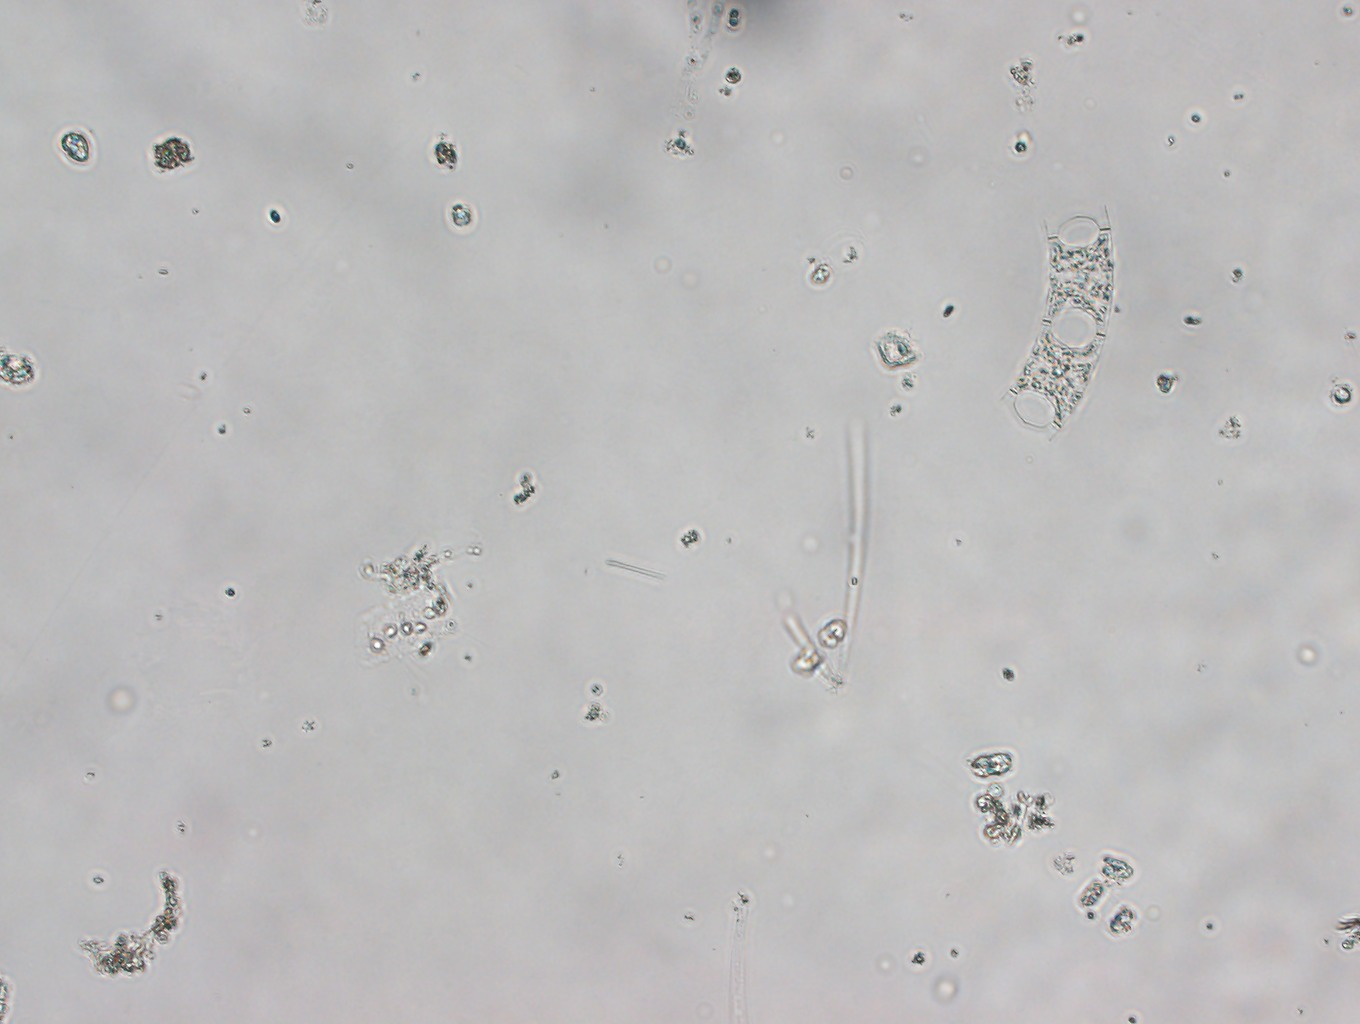eucampia: (983, 201, 1123, 443)
